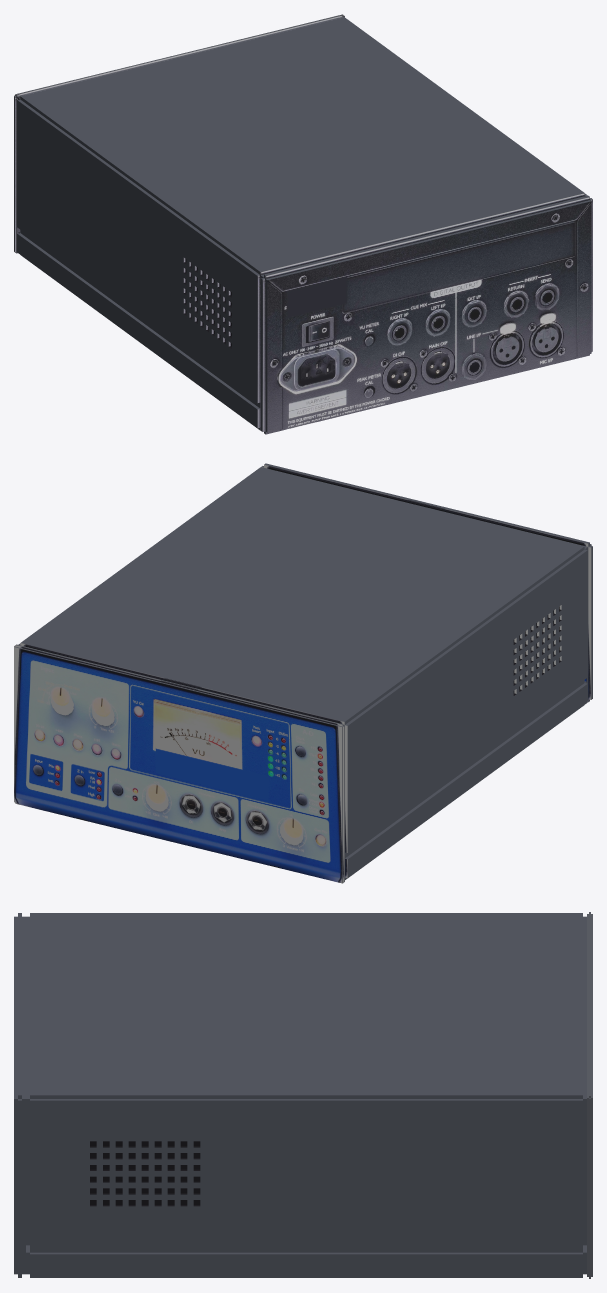
File: focusrite-isa-one.glb
3 renders of one model, top to bottom at view 1: azimuth 30°, elevation 25°; view 2: azimuth 150°, elevation 25°; view 3: azimuth 270°, elevation 25°, orthographic. The views are drawn at different scales.
Visible parts, largest first — view 1: focusrite-isa-one-body; view 2: focusrite-isa-one-body; view 3: focusrite-isa-one-body.
Part boxes in pixels (x1,y1,x2,y2): focusrite-isa-one-body: [14, 14, 592, 434]; focusrite-isa-one-body: [14, 463, 592, 883]; focusrite-isa-one-body: [14, 912, 592, 1278].
Size of the model in its own units: 0.22 by 0.104 by 0.29.
1 material, 1 textured.
